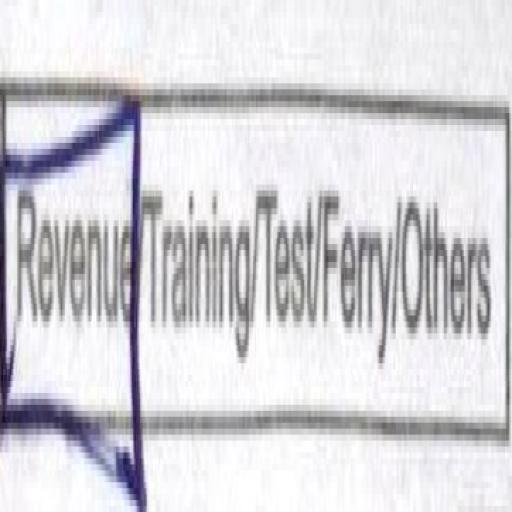check: (0, 84, 142, 512)
